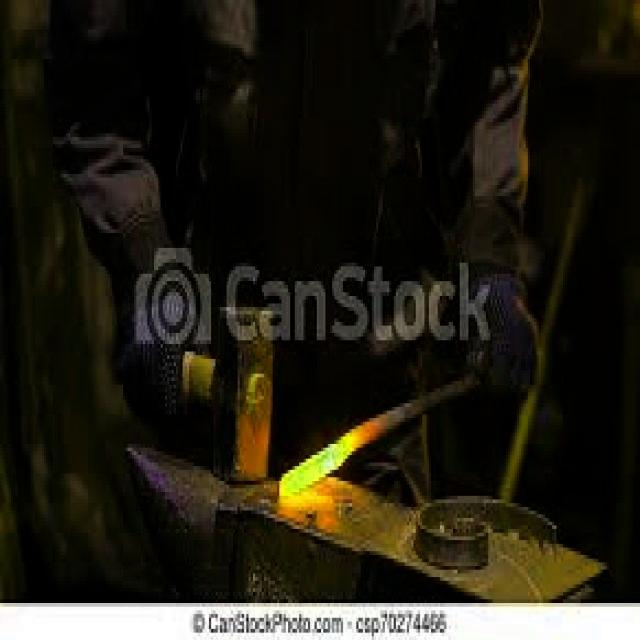hammer: (114, 279, 290, 498)
